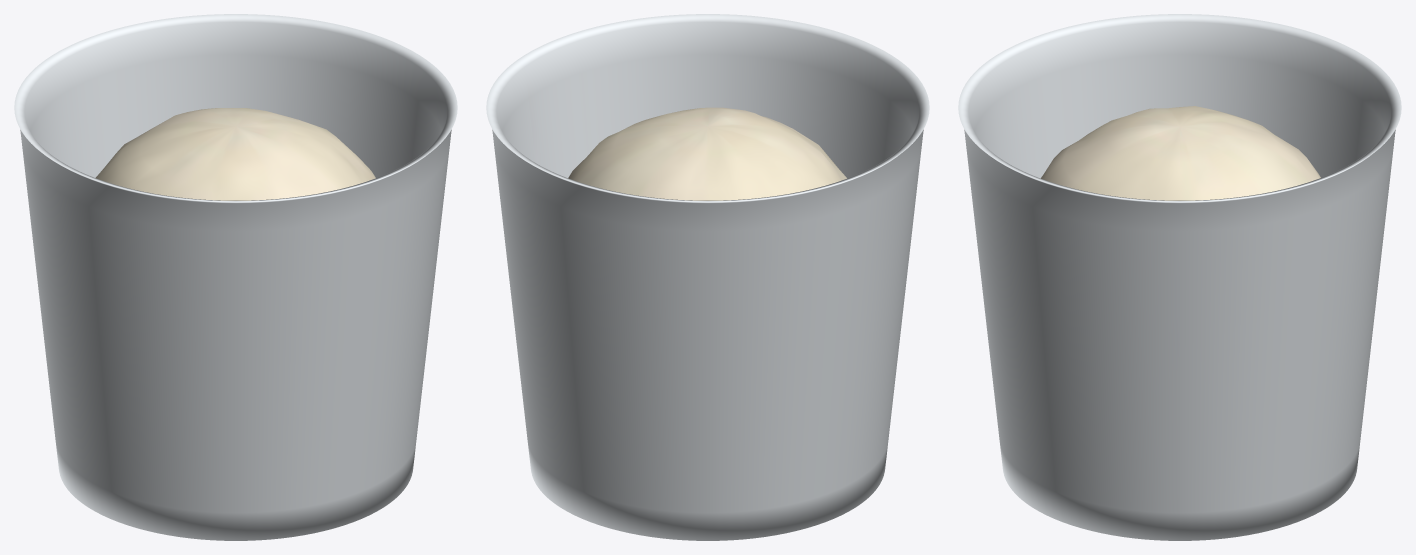
Rendered from vanilla-affogato.glb.
The picture shows the model from 3 angles, left to right: view 1: azimuth 30°, elevation 25°; view 2: azimuth 150°, elevation 25°; view 3: azimuth 270°, elevation 25°; orthographic projection.
Parts seen in each view (by area): view 1: clear, satin; view 2: clear, satin; view 3: clear, satin.
Part boxes in pixels (<box>): clear: <box>14,14,457,540</box>; satin: <box>95,108,375,200</box>; clear: <box>486,14,929,540</box>; satin: <box>568,107,846,200</box>; clear: <box>958,14,1401,540</box>; satin: <box>1041,106,1320,200</box>.
Size of the model in its own units: 0.085 by 0.0758 by 0.085.
3 materials, 3 textured.
